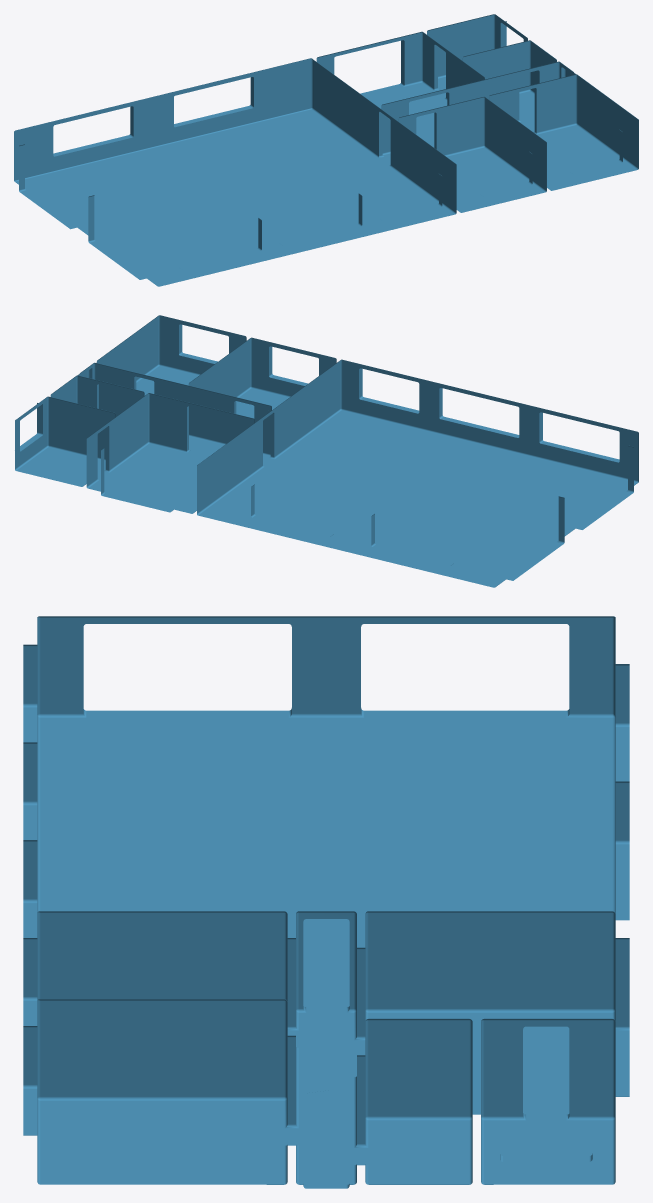
The model's file is shell.glb.
3 views of the same model, one above another, from view 1: azimuth 30°, elevation 25°; view 2: azimuth 150°, elevation 25°; view 3: azimuth 270°, elevation 25° (orthographic). The views are drawn at different scales.
Visible parts, largest first — view 1: shell; view 2: shell; view 3: shell.
Boxes of the visible parts, box(x1,y1,x2,y2) form: shell: box(14, 14, 638, 286); shell: box(15, 315, 638, 587); shell: box(23, 616, 629, 1188).
Size of the model in its own units: 24.6 by 2.43 by 13.1.
